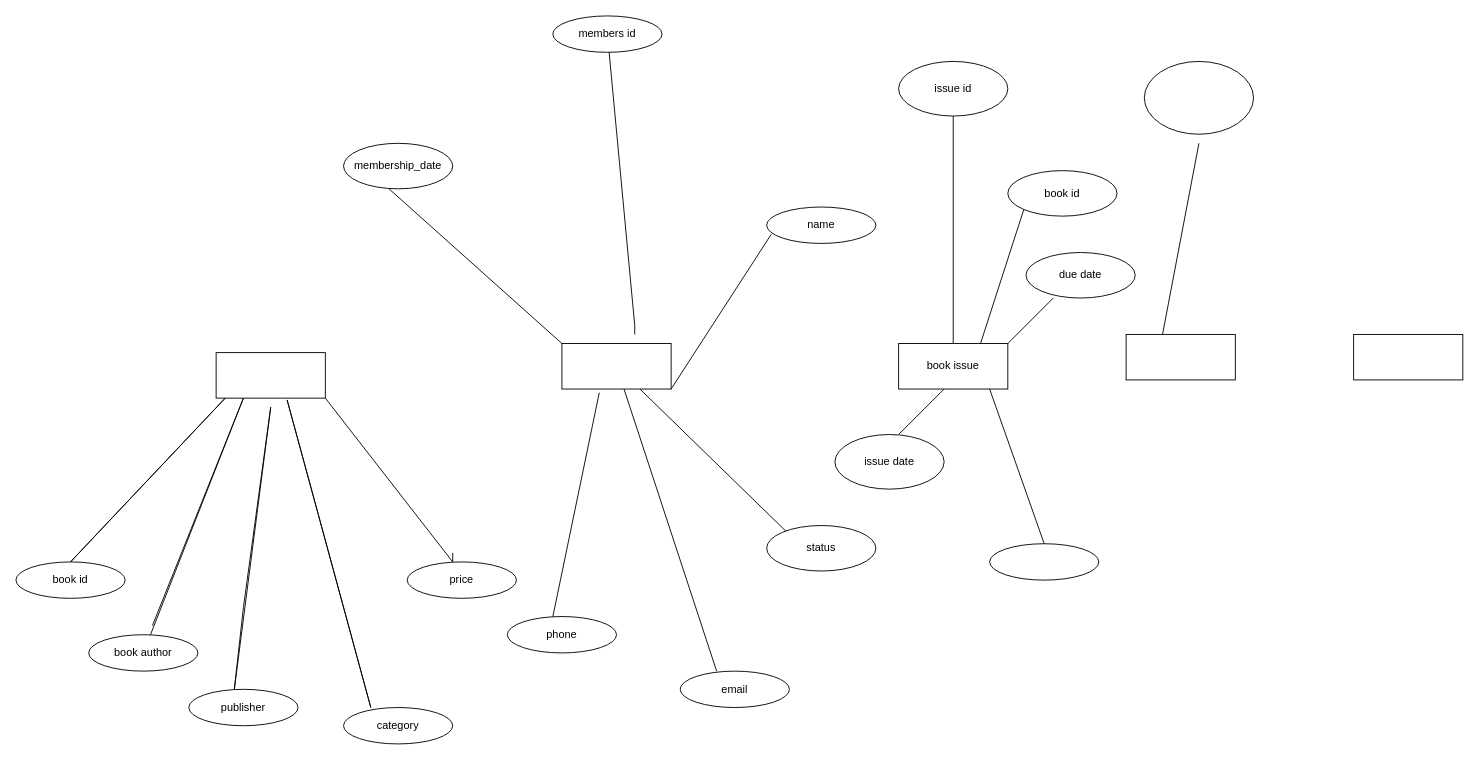
The diagram is 1479 pixels wide and 760 high, and some of its shapes have lost their labels. The shapes that lost their labels are listed below. From the top down, each one's centre as x and y in pixels, then its label:
At pixel 270 375: "book".
At pixel 616 366: "member".
At pixel 1180 357: "book return".
At pixel 1408 357: "fine".
At pixel 1044 561: "member id".
